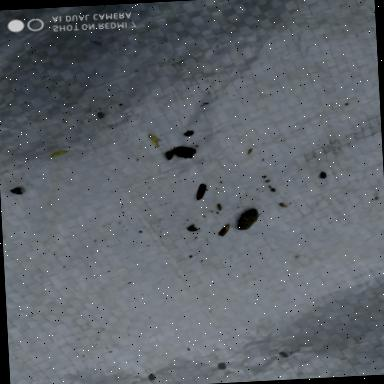pbw: (217, 224, 230, 236)
